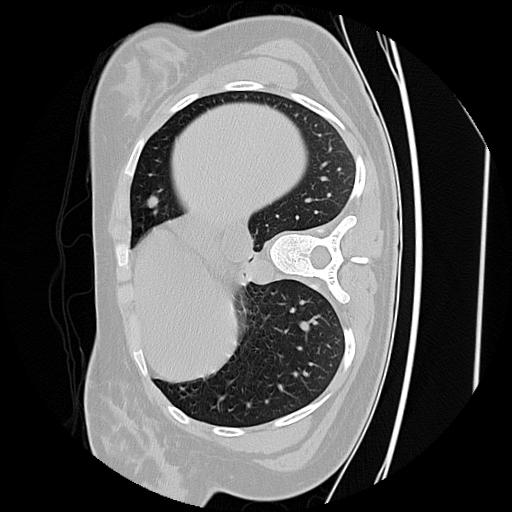nodule: (145, 192, 163, 210)
